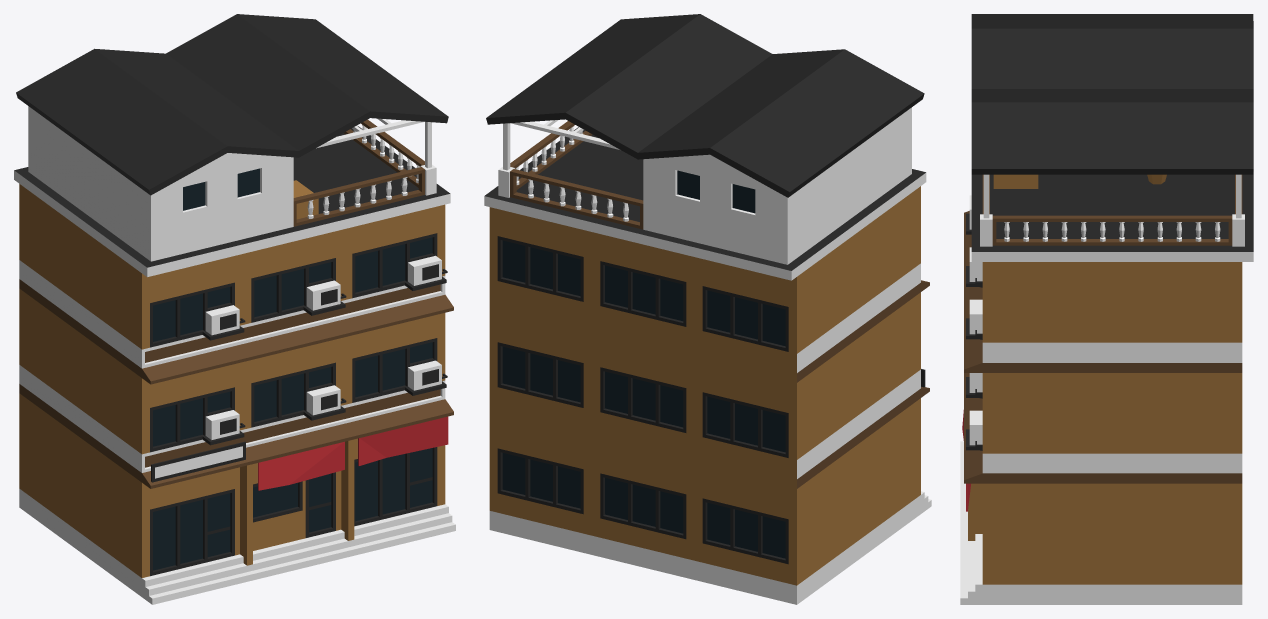
Rendered from building-street-india.glb.
3 views of the same model, side by side, from view 1: azimuth 30°, elevation 25°; view 2: azimuth 150°, elevation 25°; view 3: azimuth 270°, elevation 25° (orthographic). The views are drawn at different scales.
Visible parts, largest first — view 1: building-street-india; view 2: building-street-india; view 3: building-street-india.
Part boxes in pixels (left/top/right/bottom): building-street-india: left=14, top=14, right=455, bottom=604; building-street-india: left=484, top=14, right=931, bottom=604; building-street-india: left=960, top=14, right=1253, bottom=604.
Size of the model in its own units: 10 by 13.71 by 7.9.
Materials: 1 (1 with a texture image).
